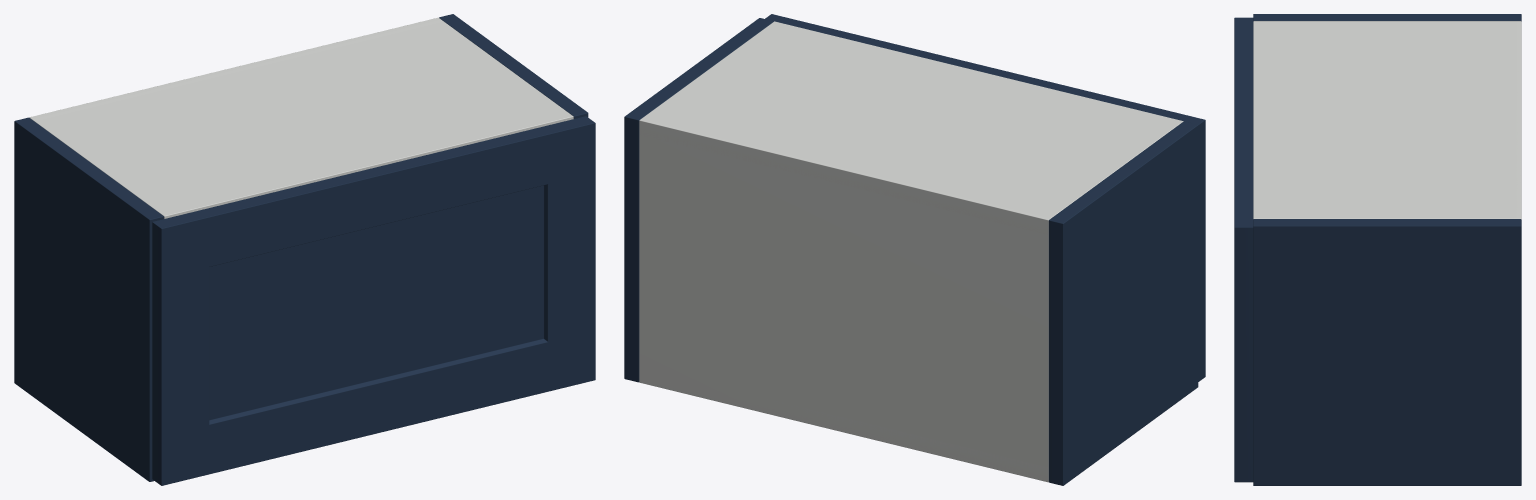
Rendered from oppein-pb-bss-w2112.glb.
3 renders of one model, left to right at view 1: azimuth 30°, elevation 25°; view 2: azimuth 150°, elevation 25°; view 3: azimuth 270°, elevation 25°, orthographic.
Parts seen in each view (by area): view 1: Door, Cabinet top, Cabinet side, Cabinet back, Cabinet side.001; view 2: Cabinet back, Cabinet top, Cabinet side, Cabinet side.001, Door, Cabinet bottom; view 3: Cabinet side.001, Cabinet top, Door, Cabinet back, Cabinet side.
Part boxes in pixels (x1,y1,x2,y2): Door: [152, 116, 595, 485]; Cabinet top: [34, 18, 573, 218]; Cabinet side: [14, 117, 164, 481]; Cabinet back: [29, 17, 442, 121]; Cabinet side.001: [439, 14, 588, 118]; Cabinet back: [639, 116, 1053, 482]; Cabinet top: [639, 21, 1183, 234]; Cabinet side: [1048, 121, 1198, 485]; Cabinet side.001: [624, 18, 773, 382]; Door: [765, 14, 1205, 381]; Cabinet bottom: [639, 377, 1048, 482]; Cabinet side.001: [1253, 219, 1521, 485]; Cabinet top: [1253, 21, 1520, 218]; Door: [1234, 17, 1253, 482]; Cabinet back: [1510, 21, 1521, 219]; Cabinet side: [1253, 14, 1521, 21].
Size of the model in its own units: 0.5334 by 0.3048 by 0.3048.
